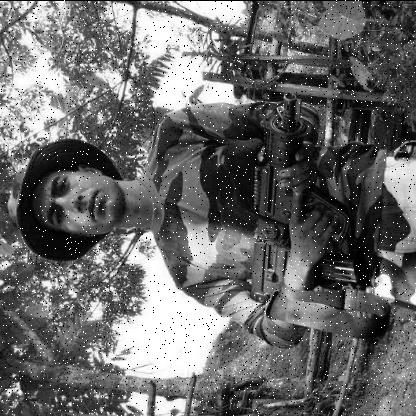rifle: (248, 89, 362, 307)
